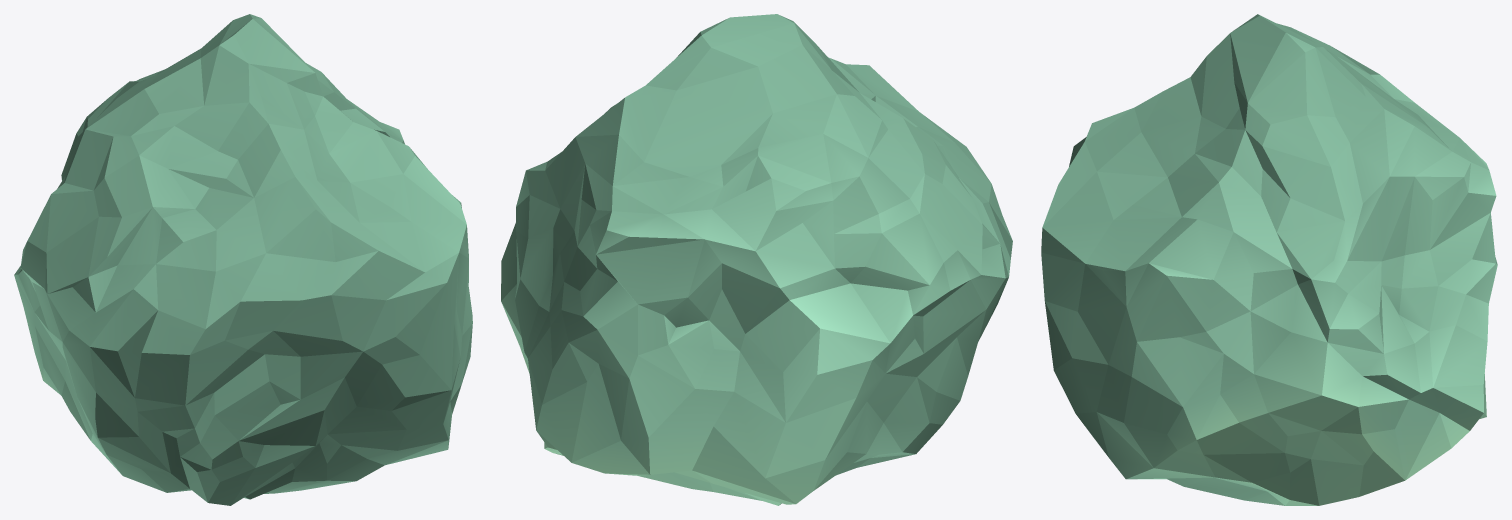
The model's file is snowparticle_anim_3_4_neg1.glb.
3 renders of one model, left to right at view 1: azimuth 30°, elevation 25°; view 2: azimuth 150°, elevation 25°; view 3: azimuth 270°, elevation 25°, orthographic. The views are drawn at different scales.
Visible parts, largest first — view 1: snowparticle_anim_3_4_neg1; view 2: snowparticle_anim_3_4_neg1; view 3: snowparticle_anim_3_4_neg1.
Boxes of the visible parts, bbox=[...] form: snowparticle_anim_3_4_neg1: bbox=[14, 14, 472, 505]; snowparticle_anim_3_4_neg1: bbox=[501, 14, 1012, 505]; snowparticle_anim_3_4_neg1: bbox=[1041, 14, 1497, 505].
Size of the model in its own units: 666 by 693 by 628.
